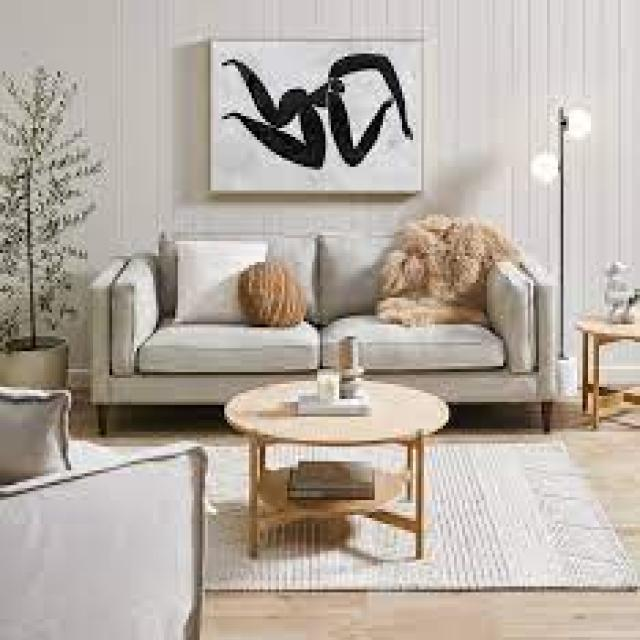Lamp: (536, 104, 594, 352)
Sofa: (94, 220, 574, 447)
Table: (222, 374, 452, 576)
